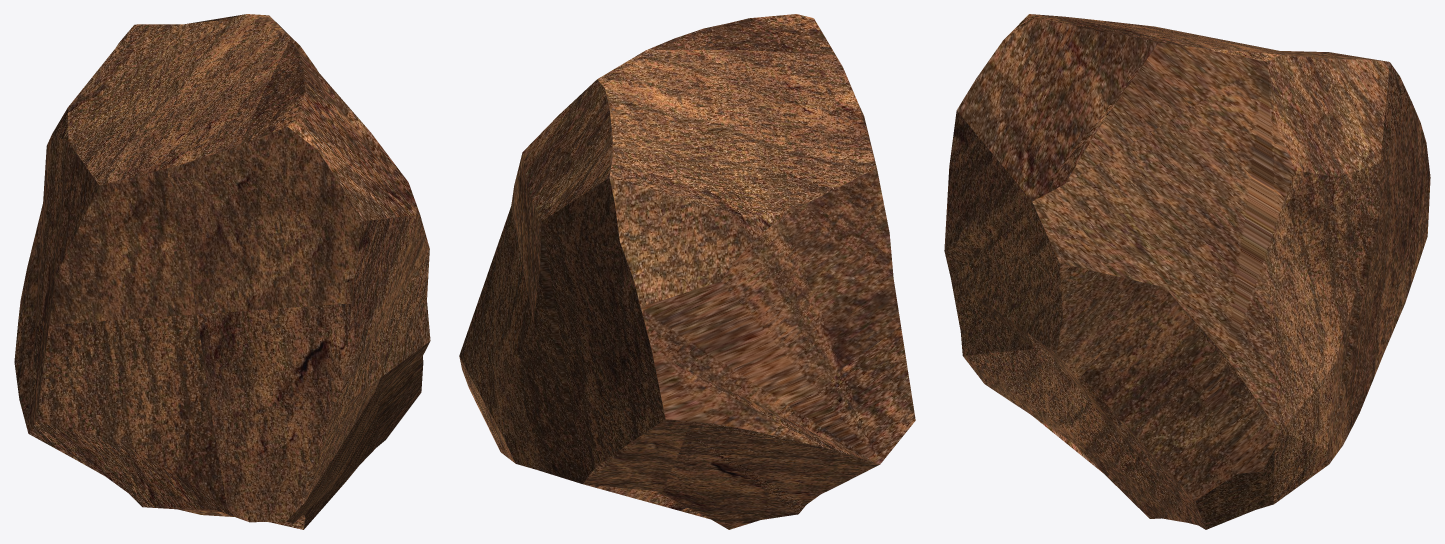
Rendered from rock2.obj.
The picture shows the model from 3 angles, left to right: view 1: azimuth 30°, elevation 25°; view 2: azimuth 150°, elevation 25°; view 3: azimuth 270°, elevation 25°; orthographic projection.
Parts seen in each view (by area): view 1: Cube; view 2: Cube; view 3: Cube.
Boxes of the visible parts, <box> form: Cube: <box>14,14,430,529</box>; Cube: <box>459,14,915,529</box>; Cube: <box>944,14,1430,529</box>.
Bounding box in the file's own units: 1.75 × 1.95 × 1.8.
Materials: 1 (1 with a texture image).
